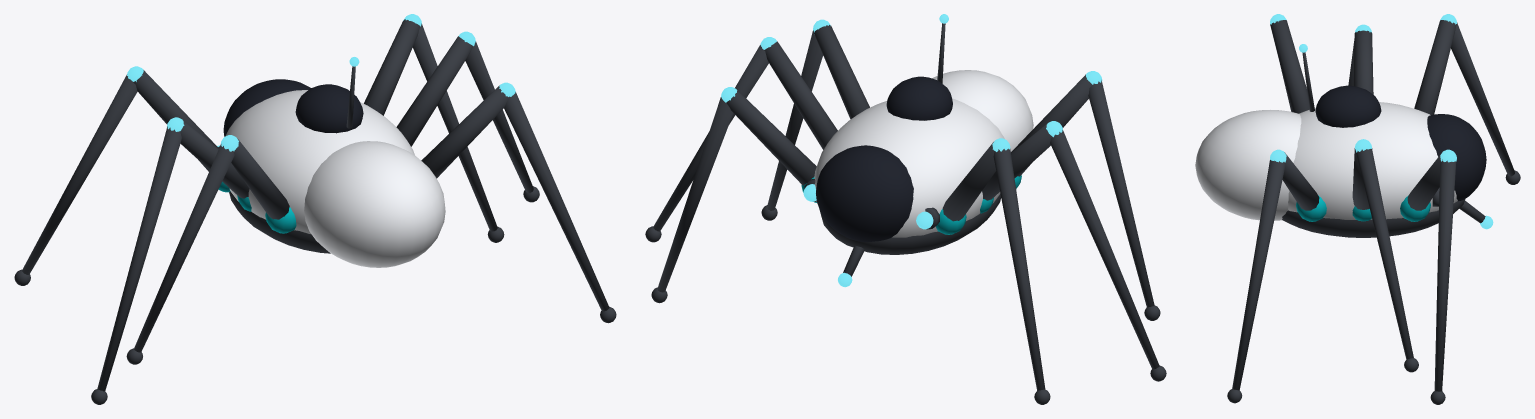
The model's file is spider.glb.
3 views of the same model, side by side, from view 1: azimuth 30°, elevation 25°; view 2: azimuth 150°, elevation 25°; view 3: azimuth 270°, elevation 25° (orthographic). The views are drawn at different scales.
Parts seen in each view (by area): view 1: Spider_carbon, Spider_shell, Spider_glass, Spider_glow, Spider_accent; view 2: Spider_carbon, Spider_shell, Spider_glass, Spider_glow, Spider_accent; view 3: Spider_carbon, Spider_shell, Spider_glass, Spider_accent, Spider_glow.
Boxes of the visible parts, left/top/right/bottom form: Spider_carbon: left=14, top=19, right=616, bottom=404; Spider_shell: left=226, top=90, right=445, bottom=267; Spider_glass: left=223, top=79, right=363, bottom=136; Spider_glow: left=127, top=14, right=515, bottom=151; Spider_accent: left=218, top=181, right=296, bottom=233; Spider_carbon: left=645, top=23, right=1166, bottom=404; Spider_shell: left=814, top=70, right=1033, bottom=237; Spider_glass: left=816, top=76, right=952, bottom=241; Spider_glow: left=721, top=14, right=1102, bottom=287; Spider_accent: left=801, top=175, right=1021, bottom=234; Spider_carbon: left=1227, top=20, right=1520, bottom=404; Spider_shell: left=1195, top=102, right=1457, bottom=220; Spider_glass: left=1315, top=85, right=1486, bottom=201; Spider_accent: left=1296, top=195, right=1430, bottom=221; Spider_glow: left=1270, top=14, right=1493, bottom=229.
Size of the model in its own units: 4.42 by 2.62 by 2.82.
